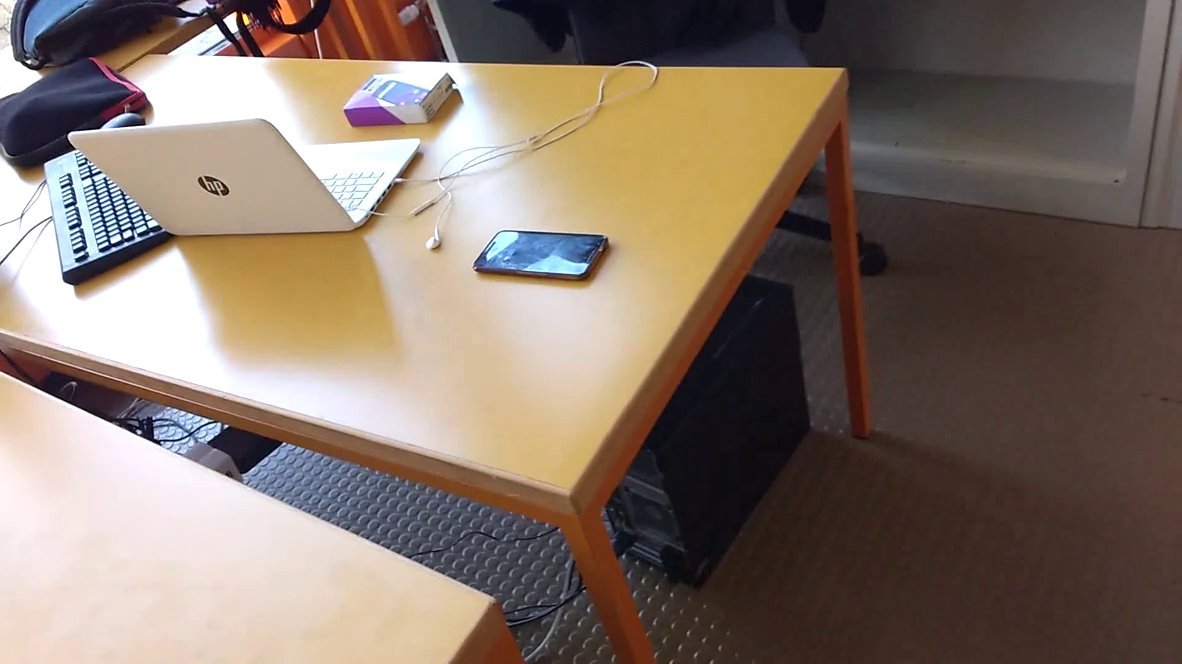laptop: (62, 113, 429, 244)
phone: (463, 227, 621, 288)
